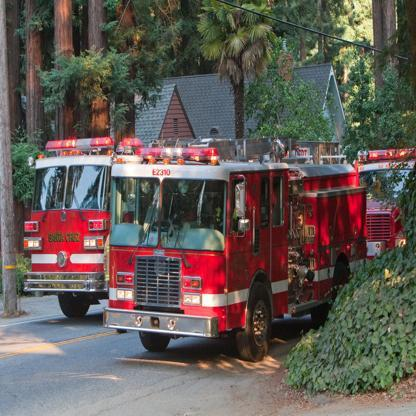fire-truck: (8, 96, 387, 375)
